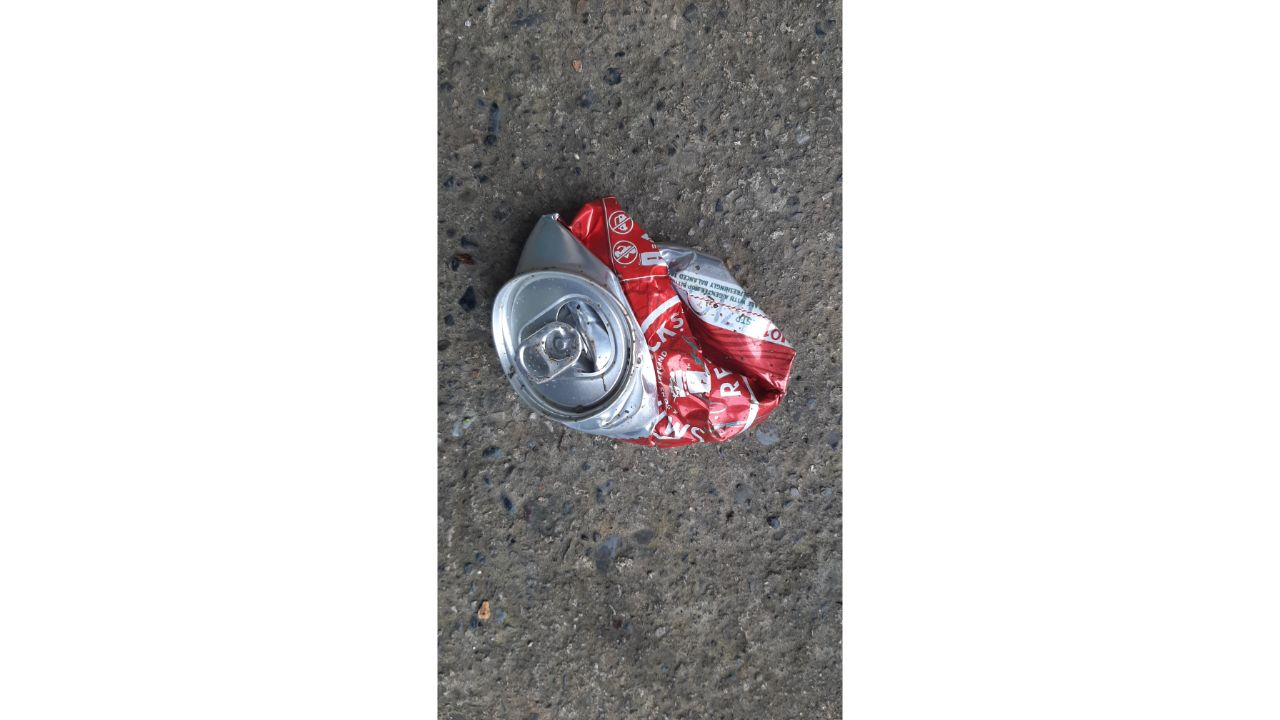Can: (489, 195, 799, 450)
